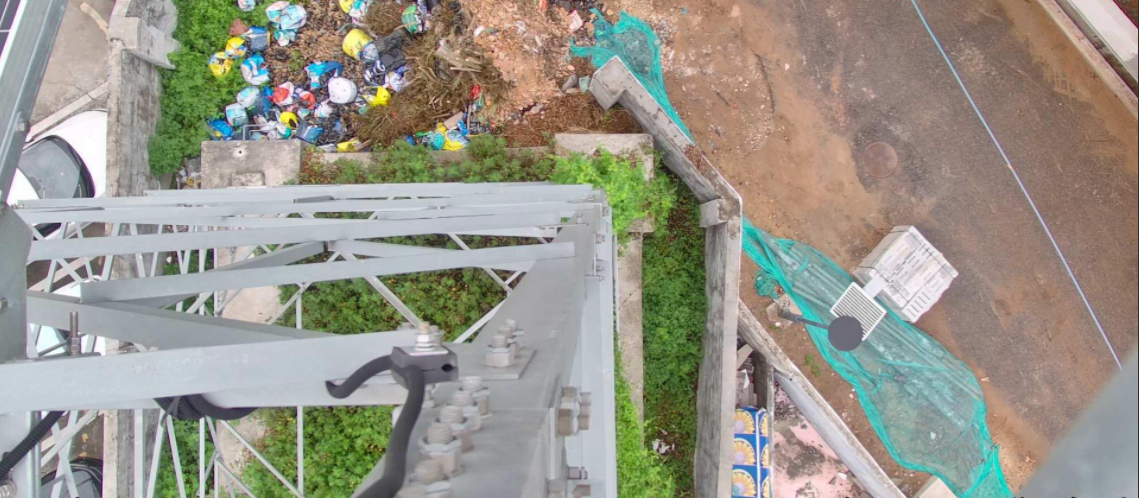绿膜: (739, 213, 1015, 498), (563, 6, 696, 148)
